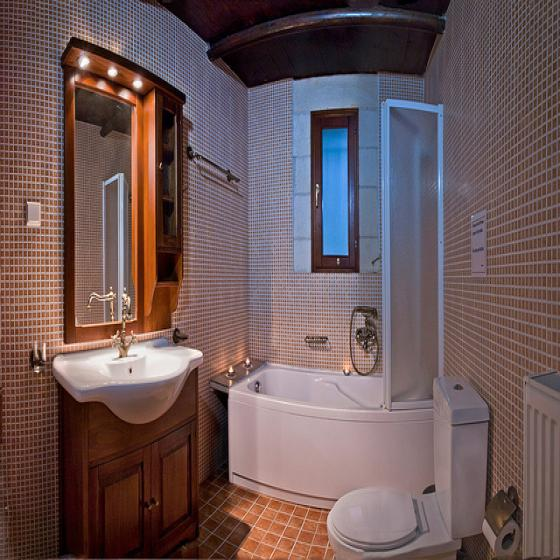sink: (51, 338, 204, 426)
toilet: (327, 486, 452, 553)
